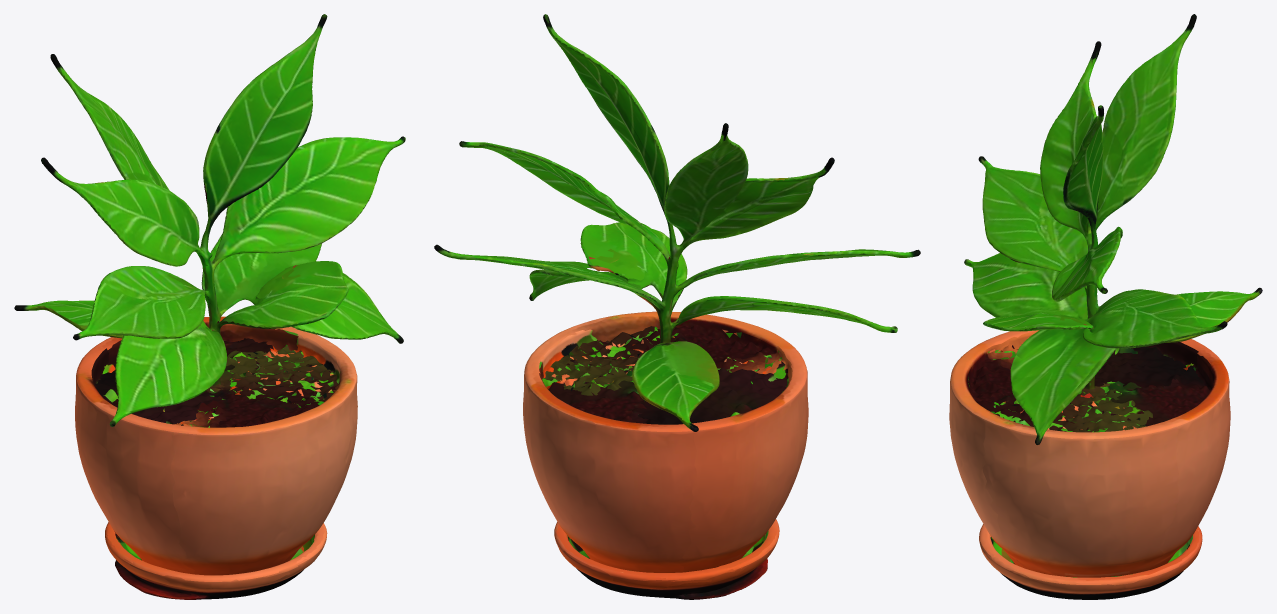
The model's file is growth-planter-b-generated-2026-04-18T01-36-15-986Z.high.glb.
3 views of the same model, side by side, from view 1: azimuth 30°, elevation 25°; view 2: azimuth 150°, elevation 25°; view 3: azimuth 270°, elevation 25° (orthographic).
Visible parts, largest first — view 1: temp_mesh.ply; view 2: temp_mesh.ply; view 3: temp_mesh.ply.
Part boxes in pixels (x1,y1,x2,y2): temp_mesh.ply: (14, 14, 405, 599); temp_mesh.ply: (434, 14, 920, 599); temp_mesh.ply: (949, 14, 1262, 599).
Bounding box in the file's own units: 1.57 × 1.97 × 1.08.
1 material, 1 textured.
